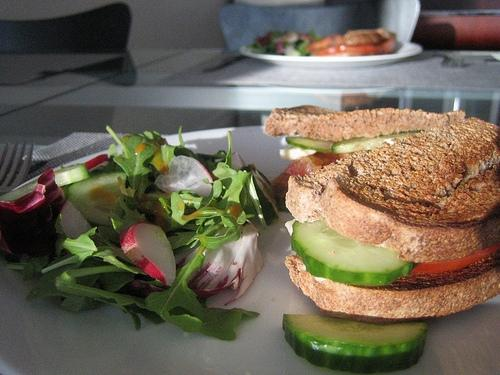cucumber: (282, 314, 428, 374), (291, 220, 413, 286), (331, 131, 421, 154), (54, 164, 91, 186), (286, 136, 335, 152)
lettuce: (139, 225, 260, 340), (54, 264, 166, 330), (187, 224, 265, 308), (0, 166, 68, 254), (158, 192, 241, 248), (25, 253, 102, 313), (106, 126, 155, 198), (55, 213, 98, 268), (168, 218, 223, 250), (110, 192, 149, 233), (7, 258, 48, 282), (98, 272, 136, 292), (239, 185, 256, 227), (196, 150, 227, 171), (76, 274, 99, 288), (224, 130, 232, 168), (177, 126, 185, 148)
radish: (119, 222, 176, 286), (156, 155, 212, 197), (60, 198, 93, 239), (85, 154, 110, 172), (231, 152, 246, 172)
tomato: (411, 244, 499, 276), (314, 38, 396, 56), (286, 157, 322, 177)
